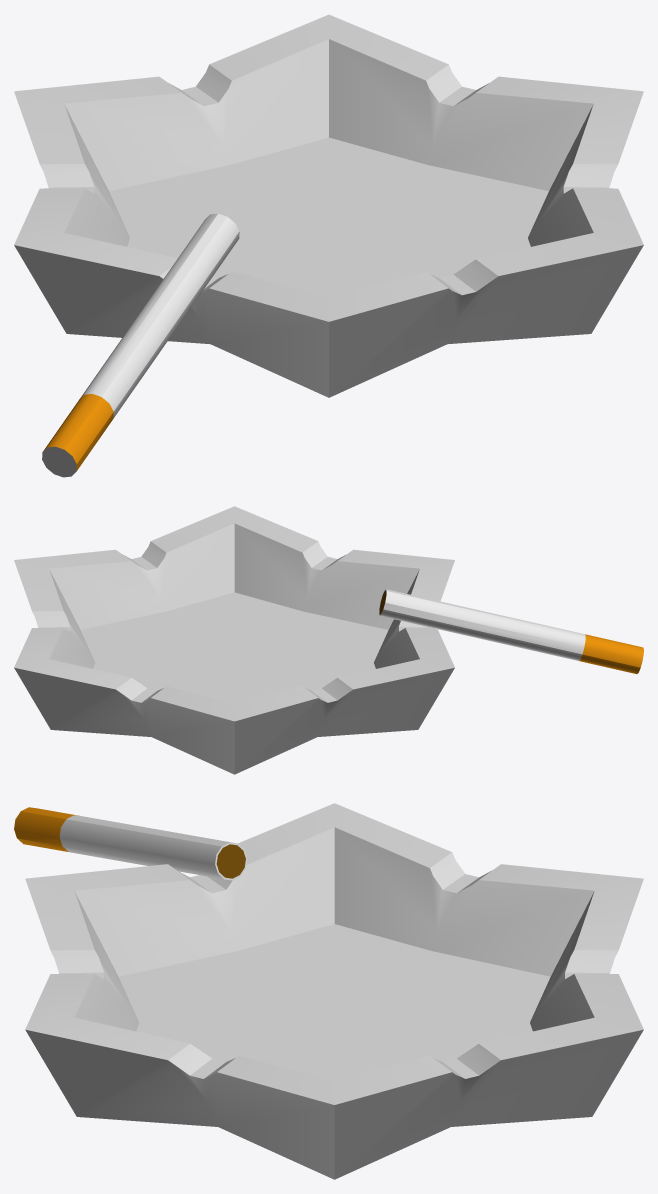
The model's file is ashtray.fbx.
3 views of the same model, one above another, from view 1: azimuth 30°, elevation 25°; view 2: azimuth 150°, elevation 25°; view 3: azimuth 270°, elevation 25° (orthographic). The views are drawn at different scales.
Visible parts, largest first — view 1: Cube.136, Cube.051; view 2: Cube.136, Cube.051; view 3: Cube.136, Cube.051.
Part boxes in pixels (<box>): Cube.136: <box>14,14,643,397</box>; Cube.051: <box>42,213,239,477</box>; Cube.136: <box>14,506,454,774</box>; Cube.051: <box>379,589,643,673</box>; Cube.136: <box>25,803,643,1179</box>; Cube.051: <box>14,807,247,880</box>.
Bounding box in the file's own units: 21.1 × 3.64 × 15.63.
